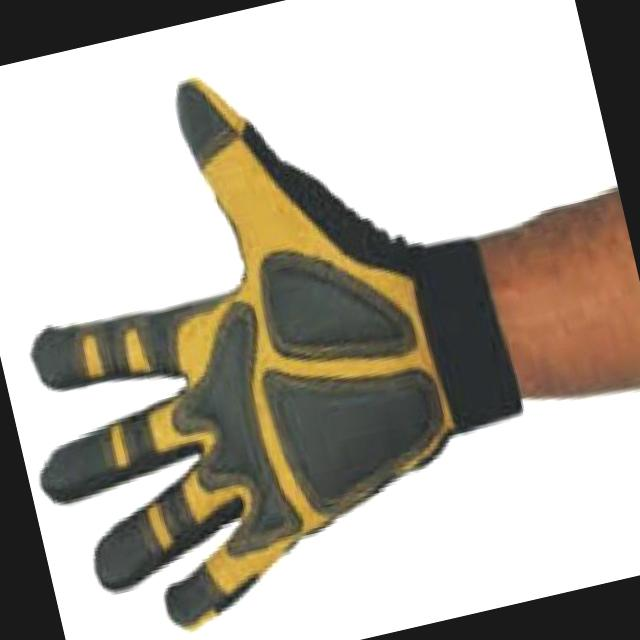gloves: (0, 15, 548, 640)
